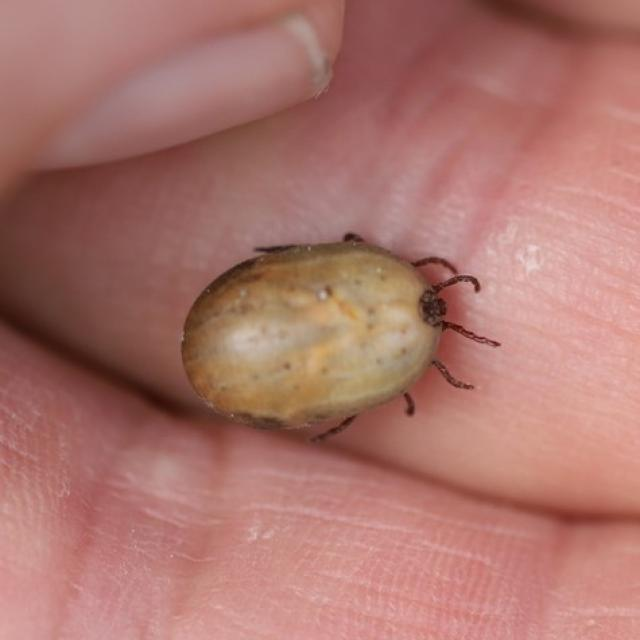Dermacentor Reticulatus-F-Fed: (182, 232, 500, 444)
